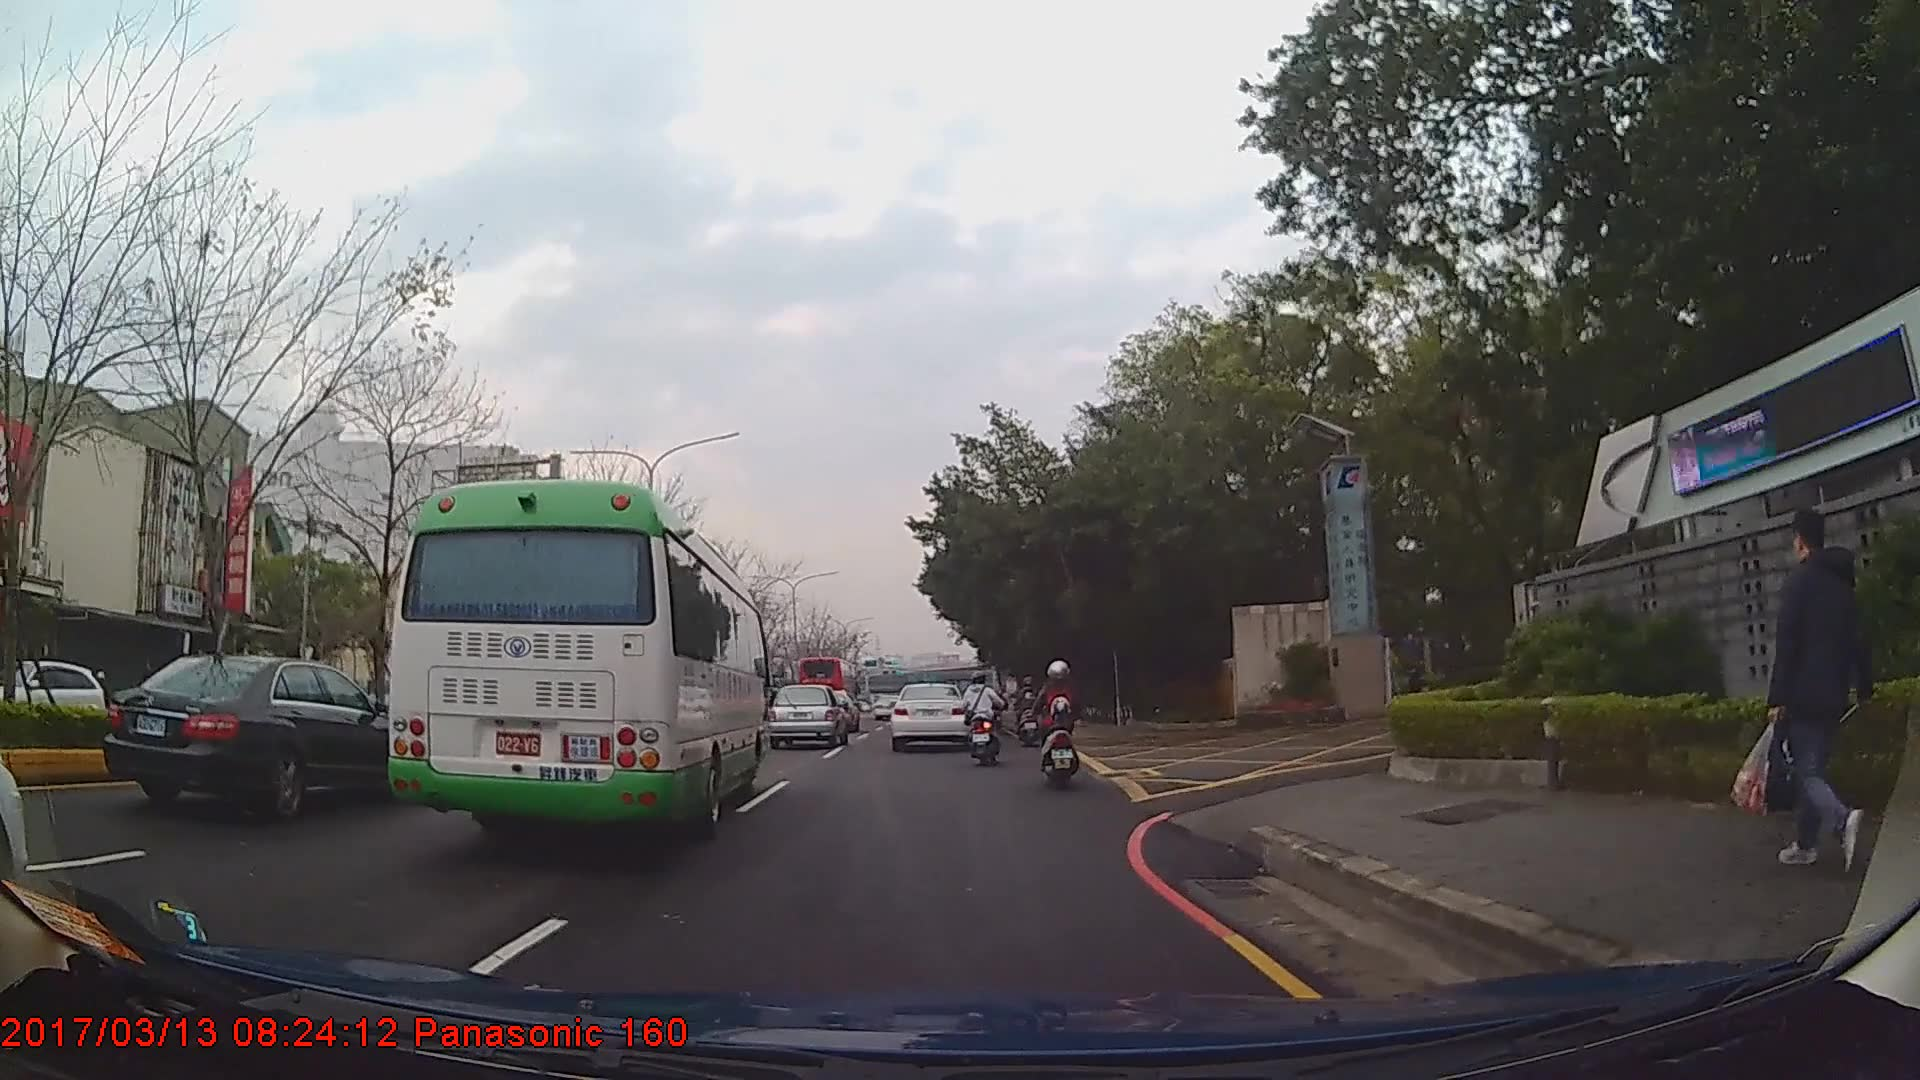pedestrian: (1731, 511, 1881, 869)
rider: (1039, 664, 1082, 798), (959, 677, 1001, 772), (1015, 677, 1044, 751)
vehicle: (376, 481, 767, 850), (102, 655, 431, 826), (0, 655, 107, 748), (889, 682, 968, 753), (769, 685, 850, 749), (795, 657, 857, 721)
